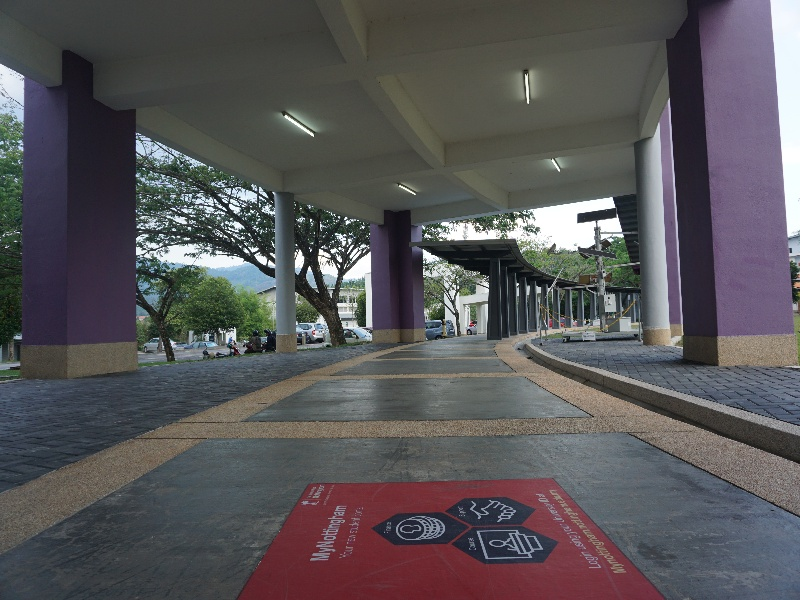Block D Pillar 4: (4, 9, 800, 526)
pillar: (666, 16, 800, 383), (13, 38, 142, 385), (364, 200, 429, 348), (272, 178, 301, 359)
